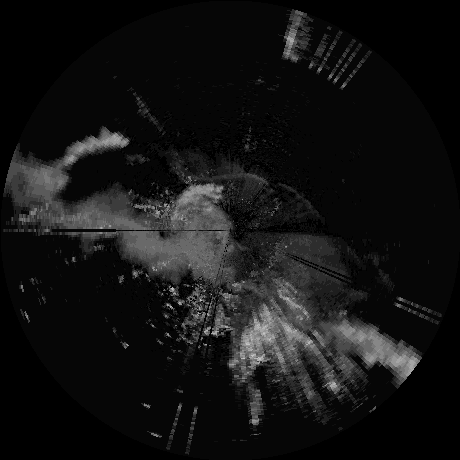frontgust: (281, 183, 322, 222), (194, 171, 266, 190)
